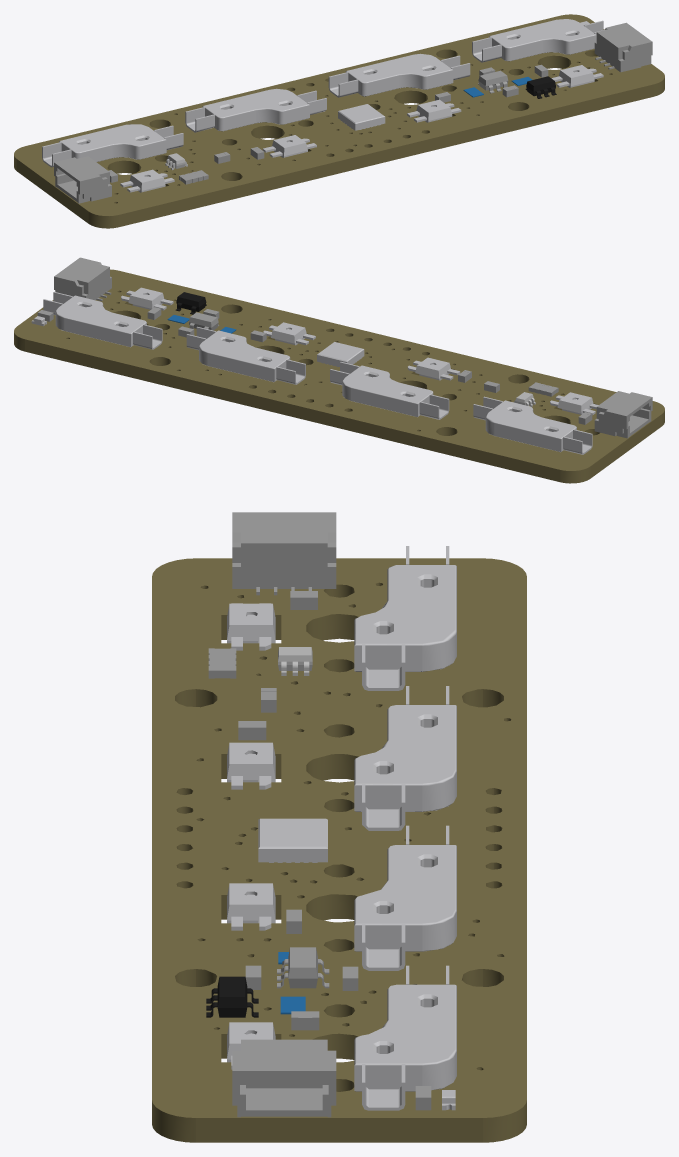
Rendered from ada-4980.glb.
3 renders of one model, top to bottom at view 1: azimuth 30°, elevation 25°; view 2: azimuth 150°, elevation 25°; view 3: azimuth 270°, elevation 25°, orthographic. The views are drawn at different scales.
Visible parts, largest first — view 1: 0.16666666666666666_0.16666666666666666_0.08333333333333333_, 0.5833333333333334_0.5833333333333334_0.5833333333333334_0.8, 0.3333333333333333_0.3333333333333333_0.3333333333333333_0, 0_0_0_0; view 2: 0.16666666666666666_0.16666666666666666_0.08333333333333333_, 0.5833333333333334_0.5833333333333334_0.5833333333333334_0.8, 0.3333333333333333_0.3333333333333333_0.3333333333333333_0, 0_0_0_0; view 3: 0.16666666666666666_0.16666666666666666_0.08333333333333333_, 0.5833333333333334_0.5833333333333334_0.5833333333333334_0.8, 0.3333333333333333_0.3333333333333333_0.3333333333333333_0, 0_0_0_0, 0.5_0.5_0.5_0.85.
Part boxes in pixels (x1,y1,x2,y2): 0.16666666666666666_0.16666666666666666_0.08333333333333333_: (14, 14, 664, 228); 0.5833333333333334_0.5833333333333334_0.5833333333333334_0.8: (42, 19, 604, 192); 0.3333333333333333_0.3333333333333333_0.3333333333333333_0: (54, 22, 652, 203); 0_0_0_0: (525, 76, 556, 98); 0.16666666666666666_0.16666666666666666_0.08333333333333333_: (14, 269, 664, 483); 0.5833333333333334_0.5833333333333334_0.5833333333333334_0.8: (31, 287, 598, 454); 0.3333333333333333_0.3333333333333333_0.3333333333333333_0: (37, 257, 652, 438); 0_0_0_0: (175, 292, 206, 314); 0.16666666666666666_0.16666666666666666_0.08333333333333333_: (152, 558, 526, 1142); 0.5833333333333334_0.5833333333333334_0.5833333333333334_0.8: (227, 546, 456, 1110); 0.3333333333333333_0.3333333333333333_0.3333333333333333_0: (208, 512, 431, 1117); 0_0_0_0: (206, 976, 258, 1017); 0.5_0.5_0.5_0.85: (278, 647, 312, 675).
Size of the model in its own units: 7.62 by 0.4532 by 2.16.
